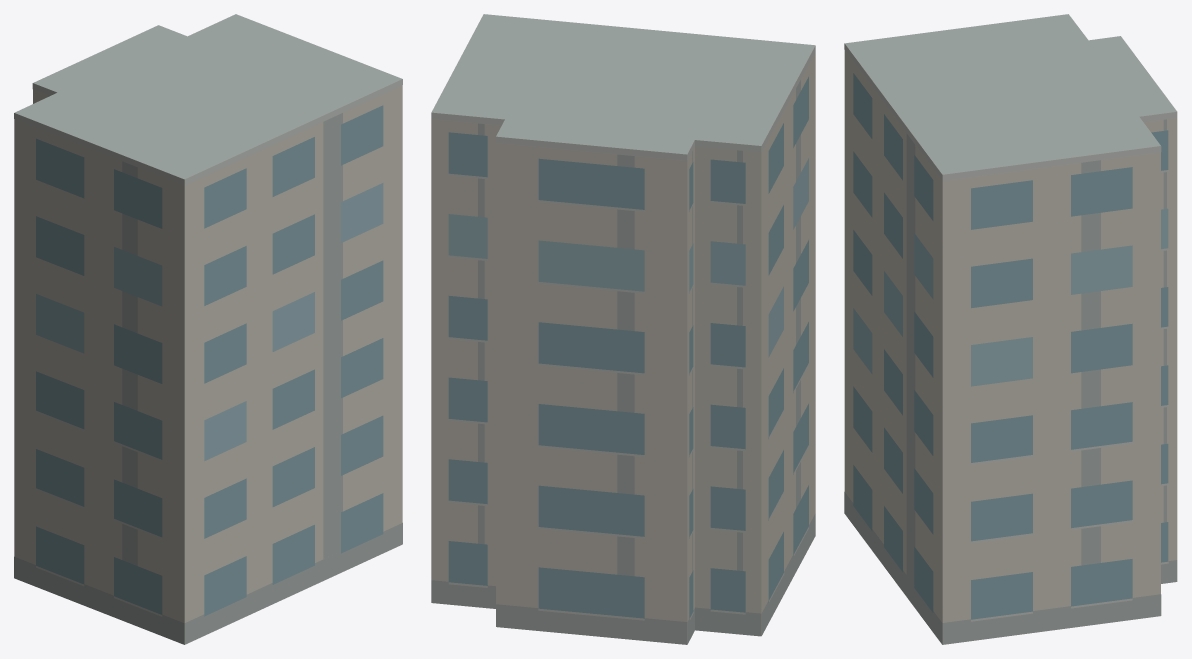
Rendered from survey-upis-32934575.glb.
The picture shows the model from 3 angles, left to right: view 1: azimuth 30°, elevation 25°; view 2: azimuth 150°, elevation 25°; view 3: azimuth 270°, elevation 25°; orthographic projection. The views are drawn at different scales.
Parts seen in each view (by area): view 1: survey-upis-32934575.tmp; view 2: survey-upis-32934575.tmp; view 3: survey-upis-32934575.tmp.
Part boxes in pixels (box(x1,y1,x2,y2)): survey-upis-32934575.tmp: box(14, 14, 402, 644); survey-upis-32934575.tmp: box(431, 14, 815, 644); survey-upis-32934575.tmp: box(844, 14, 1177, 644).
Size of the model in its own units: 13.43 by 18.3 by 11.75.
